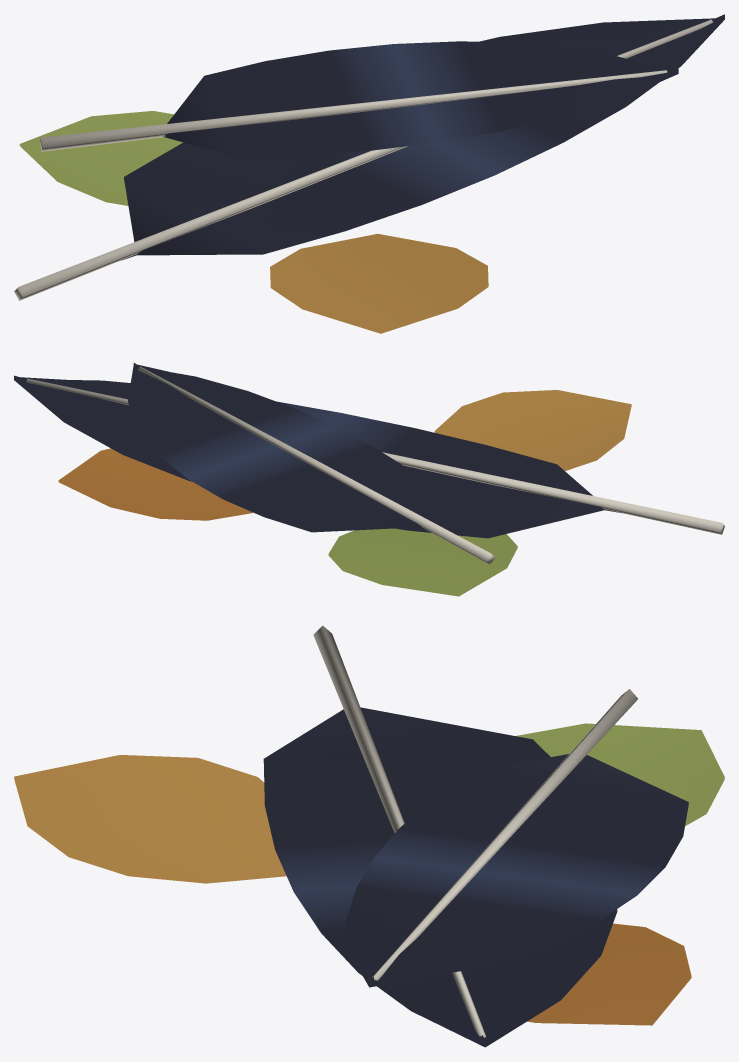
File: ing_crow_feather.glb
3 views of the same model, one above another, from view 1: azimuth 30°, elevation 25°; view 2: azimuth 150°, elevation 25°; view 3: azimuth 270°, elevation 25° (orthographic). The views are drawn at different scales.
Parts seen in each view (by area): view 1: ing_crow_feather; view 2: ing_crow_feather; view 3: ing_crow_feather.
Boxes of the visible parts, box(x1,y1,x2,y2) form: ing_crow_feather: box(14, 14, 724, 333); ing_crow_feather: box(14, 363, 724, 596); ing_crow_feather: box(14, 625, 724, 1047).
Size of what is drawn, in the model's own units: 0.507 by 0.044 by 0.3322.
